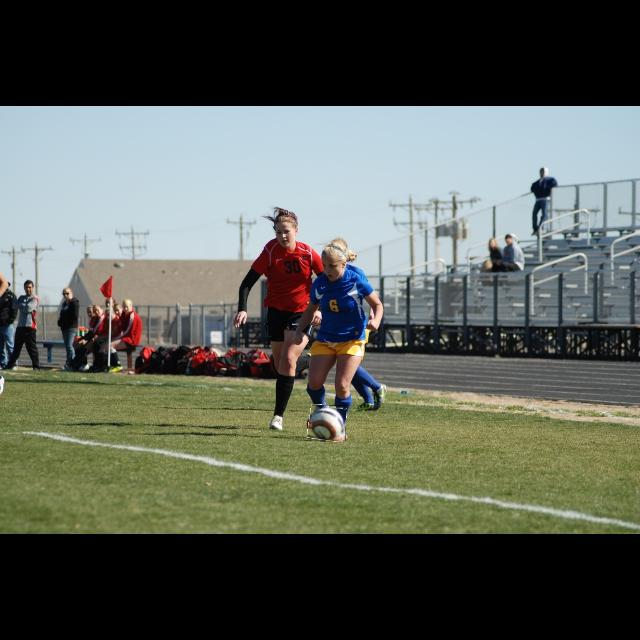Football: (308, 405, 346, 441)
